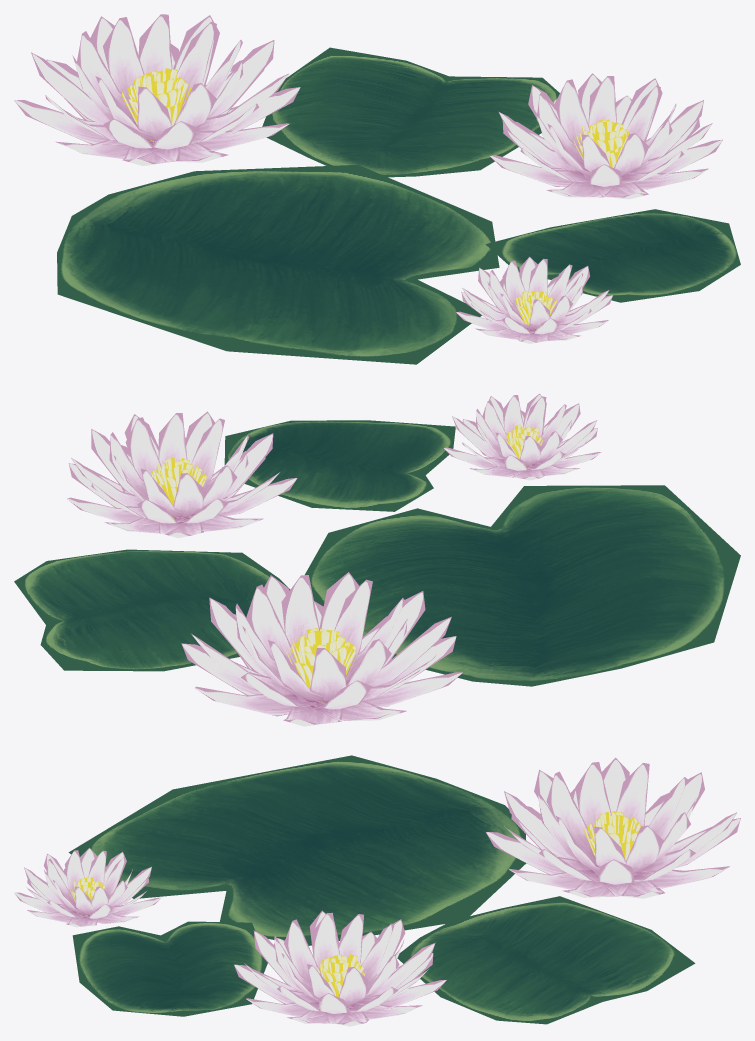
File: SM_Plant_WaterLilies_02.fbx
The picture shows the model from 3 angles, top to bottom: view 1: azimuth 30°, elevation 25°; view 2: azimuth 150°, elevation 25°; view 3: azimuth 270°, elevation 25°; orthographic projection. The views are drawn at different scales.
Visible parts, largest first — view 1: SM_Plant_WaterLilies_02_LOD0; view 2: SM_Plant_WaterLilies_02_LOD0; view 3: SM_Plant_WaterLilies_02_LOD0.
Part boxes in pixels (left/top/right/bottom): SM_Plant_WaterLilies_02_LOD0: left=14, top=14, right=740, bottom=364; SM_Plant_WaterLilies_02_LOD0: left=14, top=393, right=740, bottom=726; SM_Plant_WaterLilies_02_LOD0: left=14, top=755, right=740, bottom=1026.
Size of the model in its own units: 51.21 by 54.89 by 6.8.
1 material, 1 textured.
